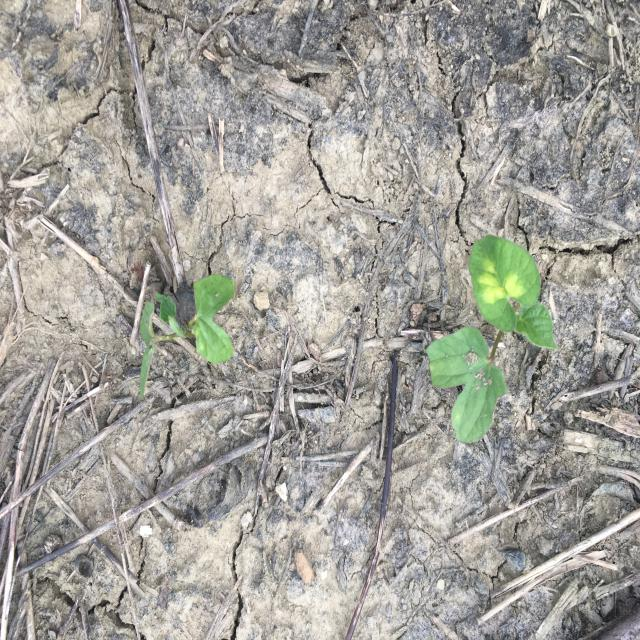MorningGlory: (425, 233, 561, 444), (138, 273, 236, 400)
